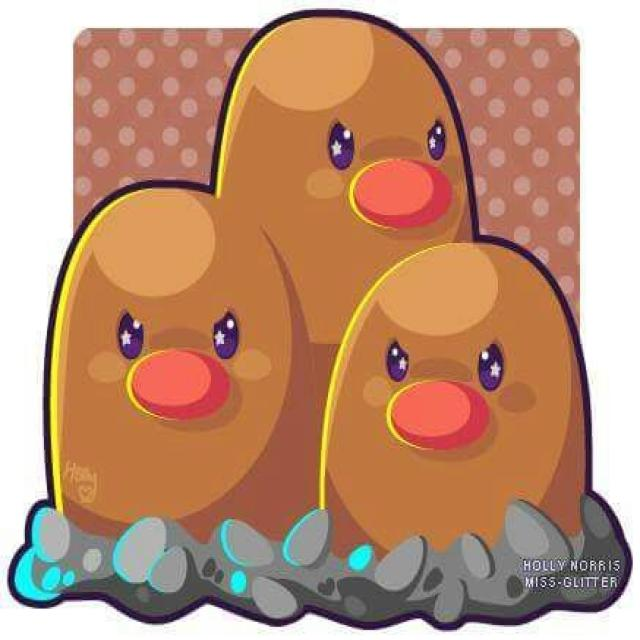Dugtrio: (45, 14, 591, 566)
